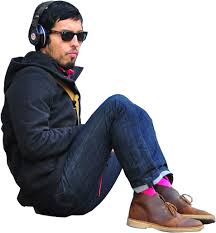no-mask: (32, 2, 90, 74)
